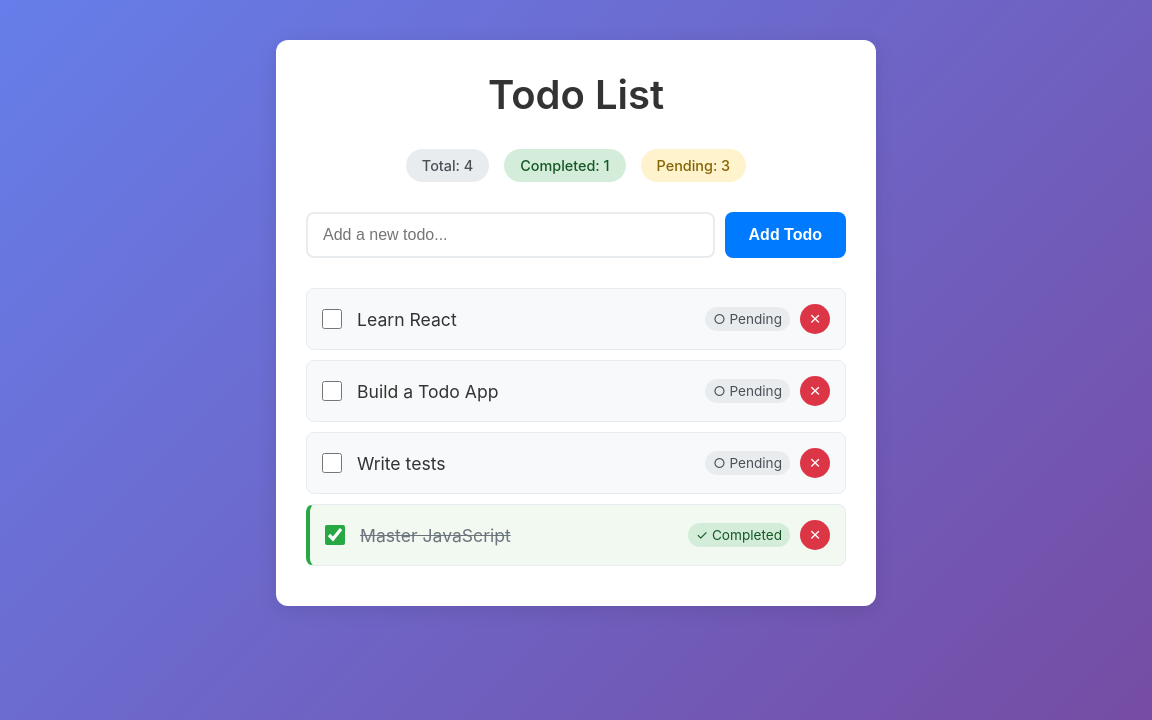
Test: TodoList Component › deletes a todo when delete button is clicked
Expected: the text "Learn React" is shown, [357, 308, 457, 330]
Note: Click delete button
Click the button named "delete learn react" at (815, 319), box [800, 304, 830, 334]
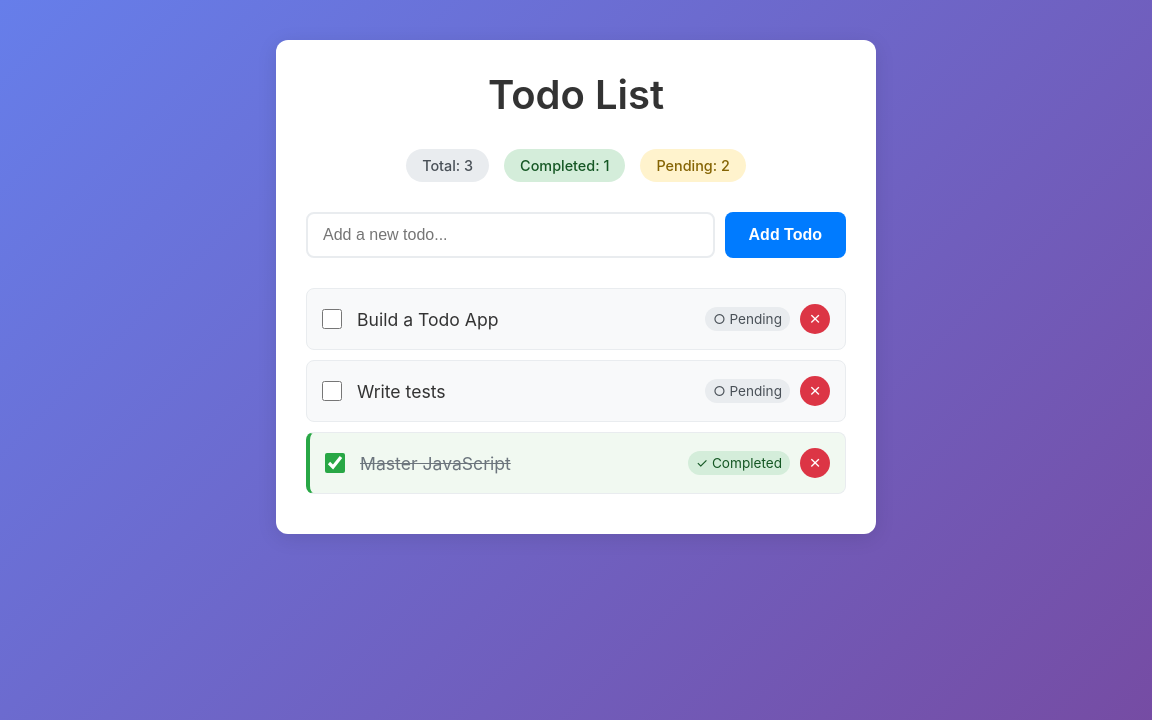
Expected: the text "Learn React" is gone
Expected: the text "Total: 3" is shown, [406, 149, 489, 182]
Expected: the text "Pending: 2" is shown, [640, 149, 746, 182]
